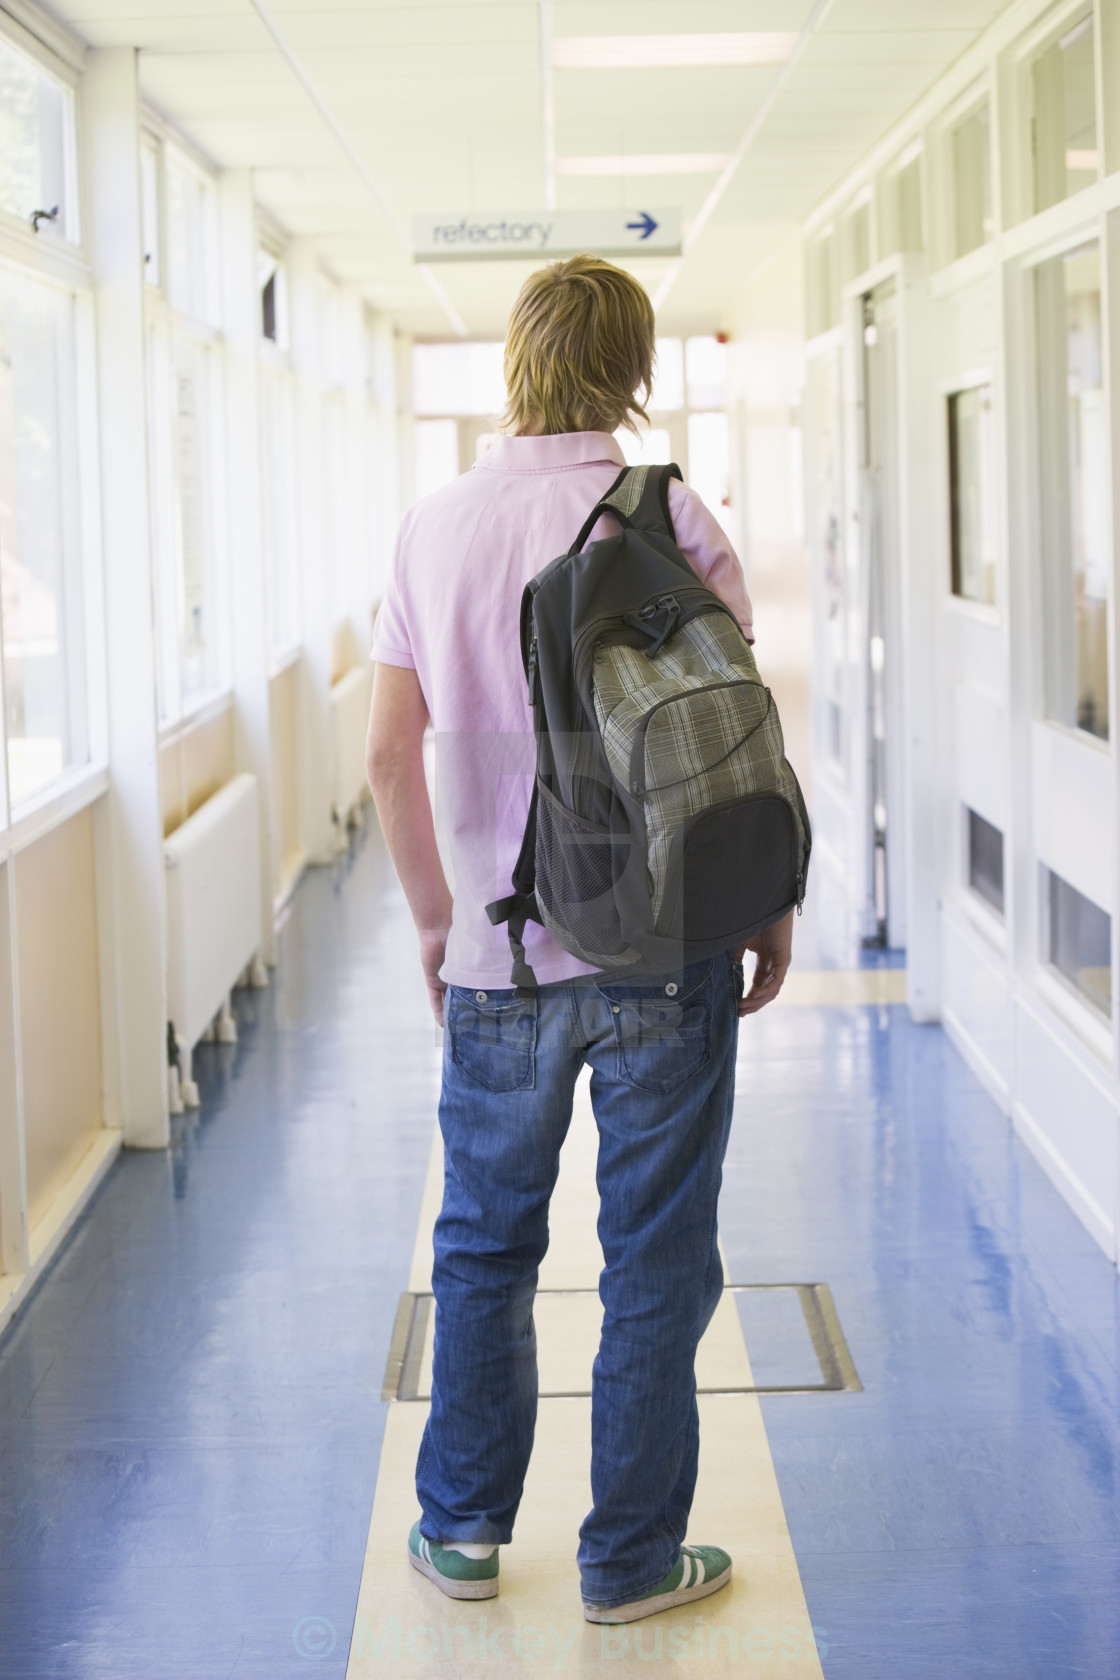students: (360, 252, 815, 1629)
